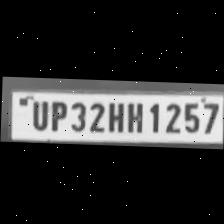1: (143, 98, 161, 132)
2: (85, 97, 105, 132), (160, 99, 180, 134)
3: (66, 96, 86, 130)
5: (180, 98, 200, 133)
7: (199, 98, 219, 132)
H: (104, 97, 124, 131), (124, 98, 144, 132)
P: (45, 96, 65, 130)
U: (26, 96, 48, 130)
